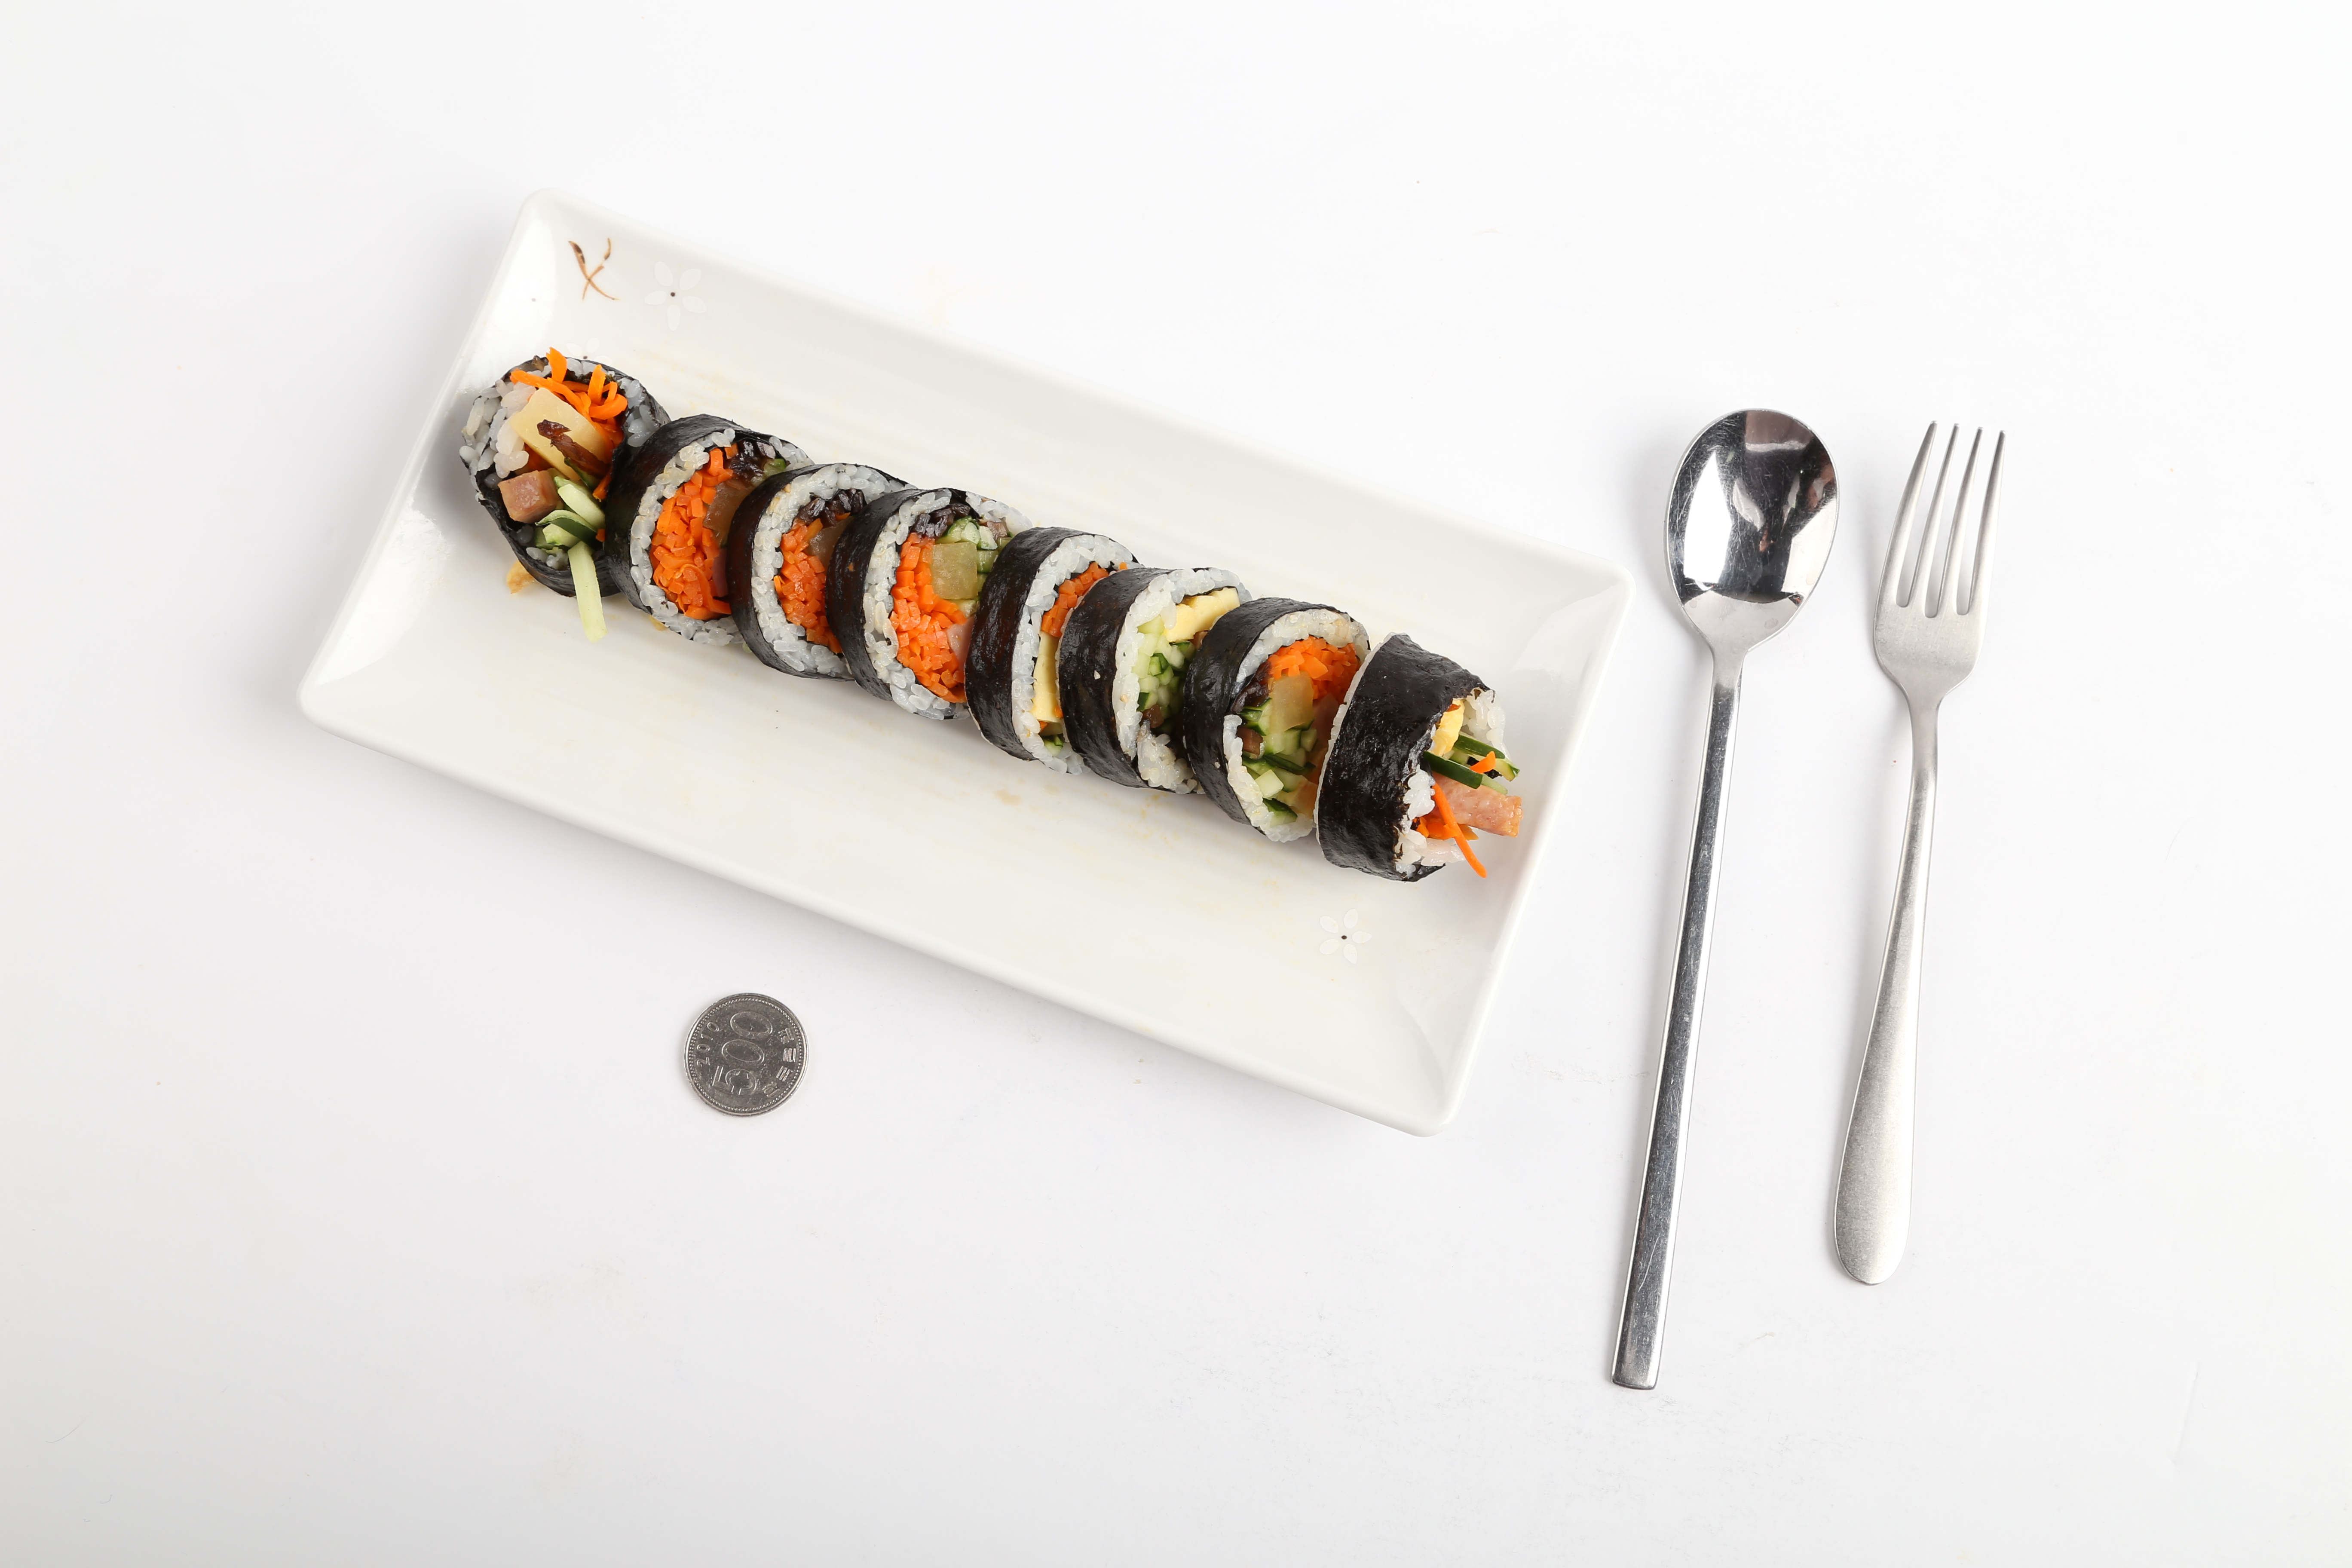dish: (304, 185, 1624, 1137)
ref_coin: (675, 983, 812, 1122)
ref_fork: (1865, 416, 2009, 751)
ref_spoon: (1657, 402, 1839, 716)
김밥: (455, 346, 1519, 929)
